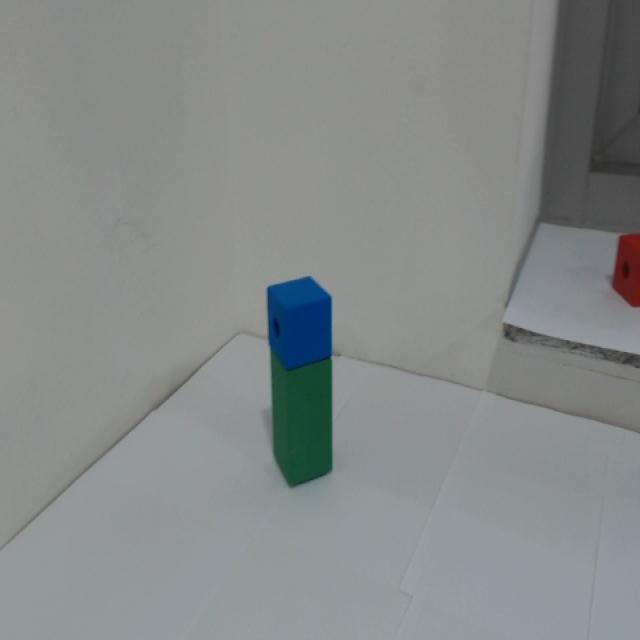cube: (262, 255, 353, 364)
